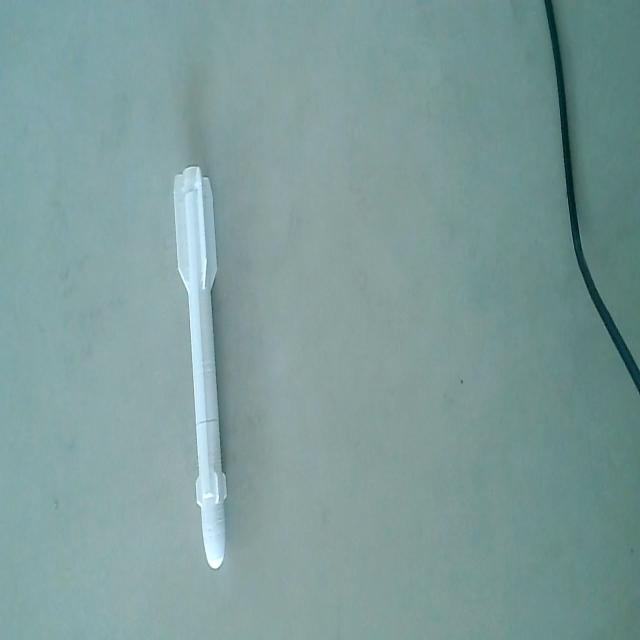Rocket: (172, 163, 235, 576)
